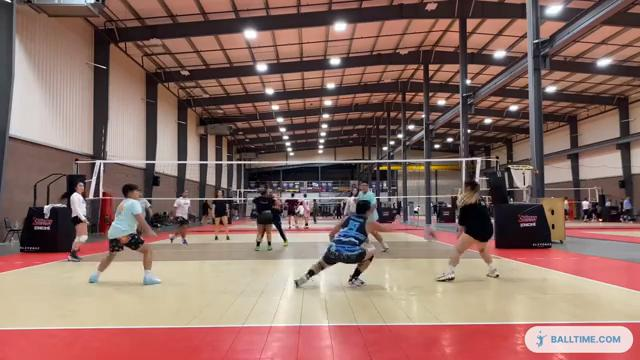Dig: (289, 198, 398, 286)
Player: (89, 184, 160, 284), (436, 180, 498, 280), (68, 182, 88, 261), (253, 189, 274, 250), (170, 190, 190, 244), (268, 190, 287, 246), (357, 181, 377, 221), (213, 190, 229, 239)
ball: (425, 228, 437, 242)
